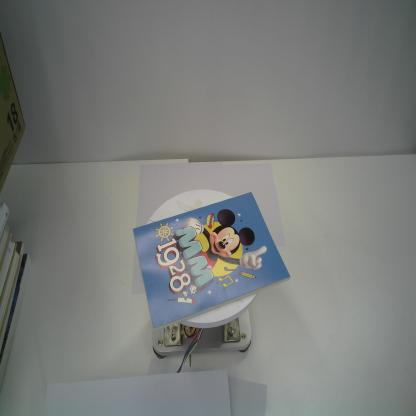Stationery: (132, 190, 291, 332)
